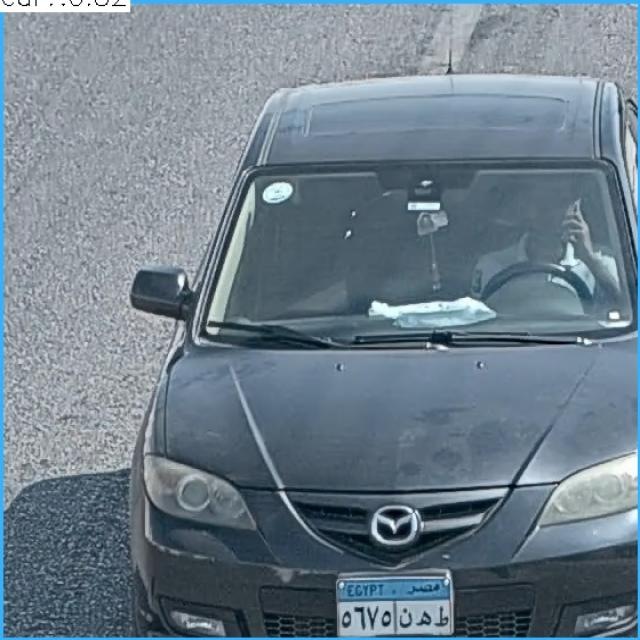windshield: (206, 170, 631, 338)
